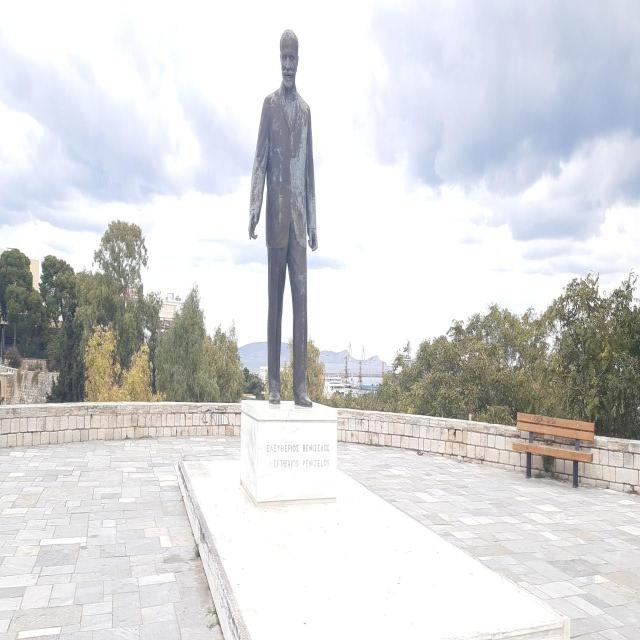Venizelos: (250, 30, 318, 413)
